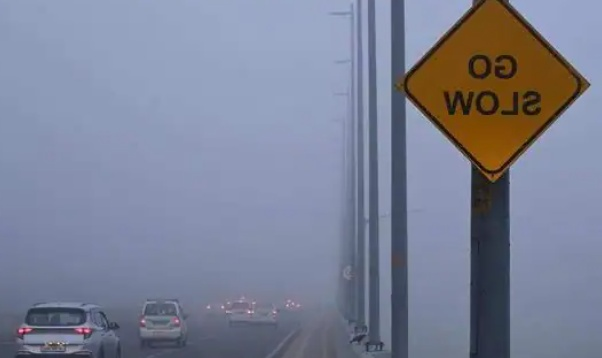go slow: (392, 0, 601, 189)
